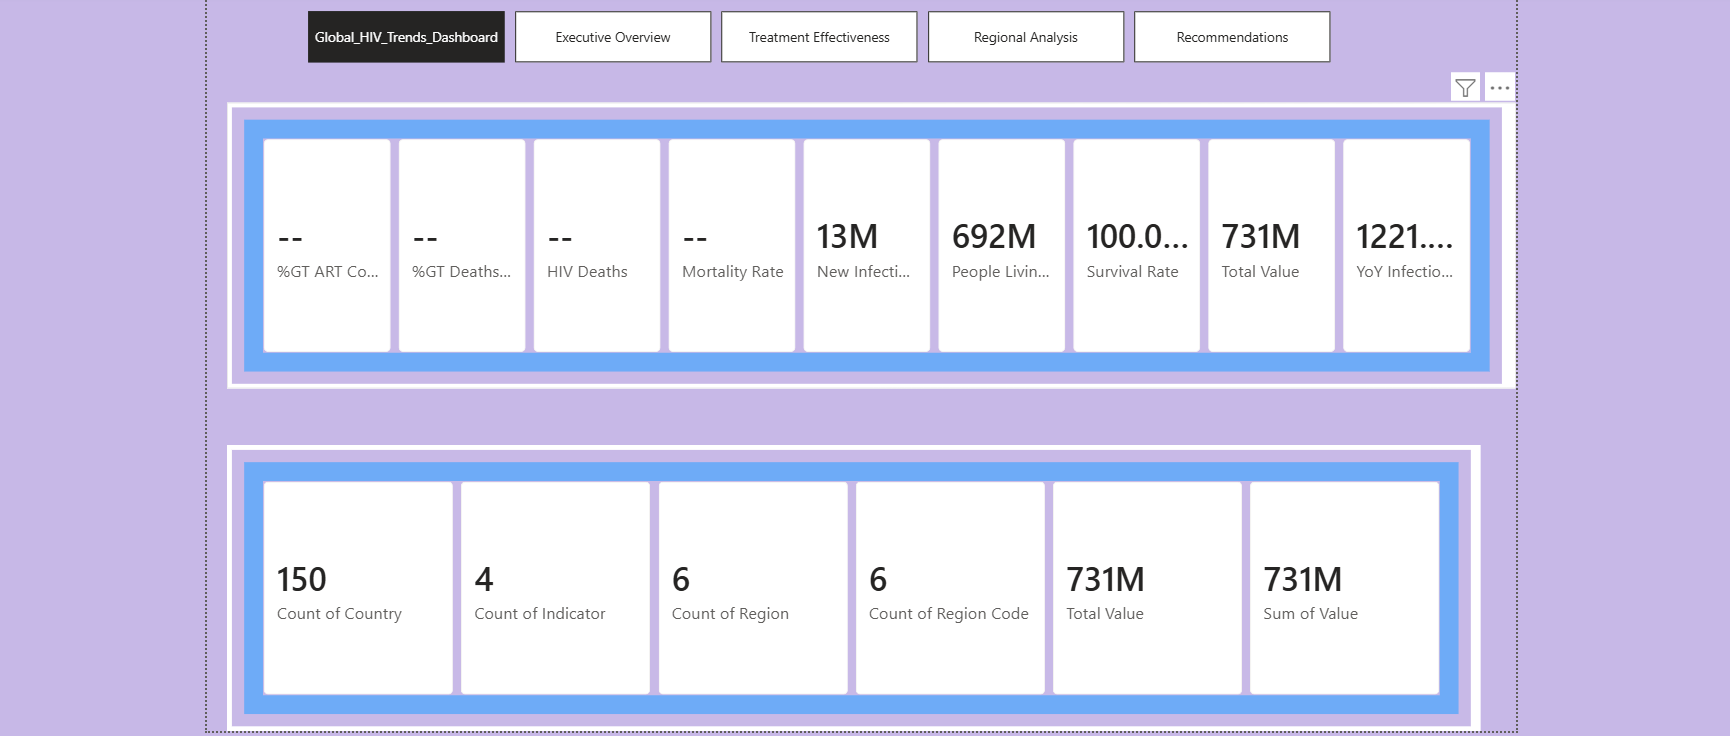

What the dashboard file says about the page in this screenshot:
{"tool":"powerbi","page":{"name":"Global_HIV_Trends_Dashboard","canvas":[1280,720],"ordinal":0},"visuals":[{"type":"cardVisual","fields":{"Data":["Count(Fact_HIV.Country)","Count(Fact_HIV.Indicator)","Count(Fact_HIV.Region)","Count(Fact_HIV.Region Code)","Fact_HIV.Total Value","Sum(Fact_HIV.Value)"]},"box":[20,440,1226.7,280],"z":0},{"type":"cardVisual","fields":{"Data":["Fact_HIV.ART Coverage %","Fact_HIV.Deaths per 1,000 New Infections","Fact_HIV.HIV Deaths","Fact_HIV.Mortality Rate","Fact_HIV.New Infections","Fact_HIV.People Living with HIV","Fact_HIV.Survival Rate","Fact_HIV.Total Value","Fact_HIV.YoY Infection Growth"]},"box":[20,105,1260,280],"z":1000},{"type":"pageNavigator","box":[98.8,16.3,1000,50],"z":1001}]}

Visuals, with their boxes on the page's 1280x720 design canvas (x1, y1, x2, y2). These are canvas units, not pixel positions in the 1730x736 screenshot, which may show the page scaled, cropped or inside an application window:
cardVisual - Count(Fact_HIV.Country) x Count(Fact_HIV.Indicator): {"left": 20, "top": 440, "right": 1247, "bottom": 720}
cardVisual - Fact_HIV.ART Coverage % x Fact_HIV.Deaths per 1,000 New Infections: {"left": 20, "top": 105, "right": 1280, "bottom": 385}
pageNavigator: {"left": 99, "top": 16, "right": 1099, "bottom": 66}
